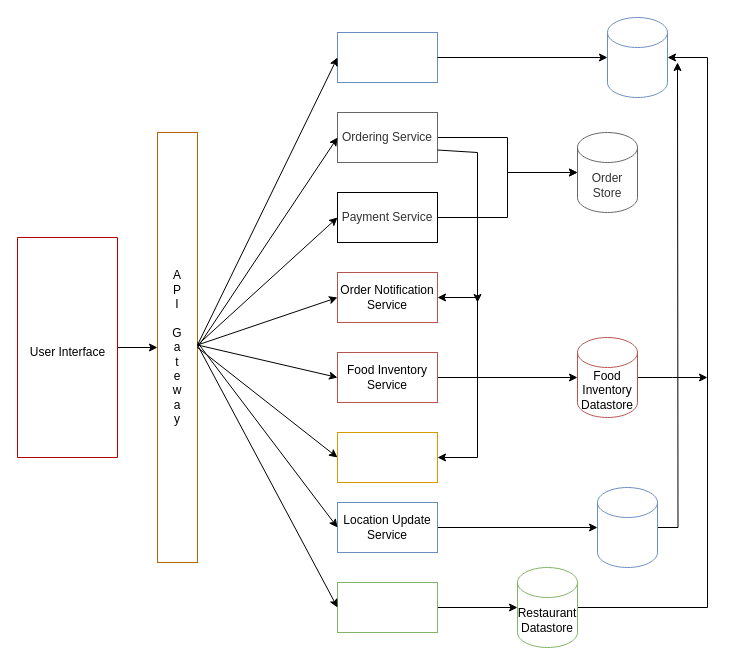
Image size: 733x665. Some labels were removed from this diagram. Each missing label, with the centre of its shape:
"Delivery Service" goes at (x=387, y=457).
"Location Store" goes at (x=627, y=527).
"Restaurant Listing Service" goes at (x=387, y=607).
"Search Datastore" goes at (x=637, y=57).
"Search Service" goes at (x=387, y=57).
